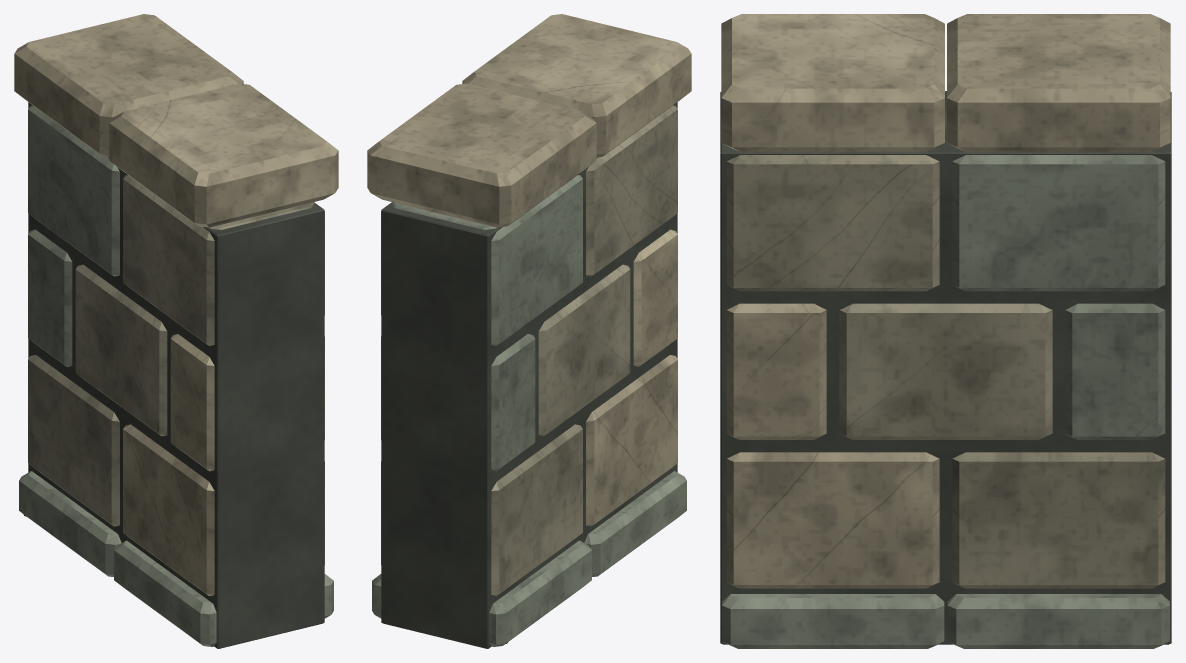
Rendered from b03_wall_128.fbx.
3 views of the same model, side by side, from view 1: azimuth 30°, elevation 25°; view 2: azimuth 150°, elevation 25°; view 3: azimuth 270°, elevation 25° (orthographic). The views are drawn at different scales.
Visible parts, largest first — view 1: b03_wall_128; view 2: b03_wall_128; view 3: b03_wall_128.
Boxes of the visible parts, <box> form: b03_wall_128: <box>14,14,338,648</box>; b03_wall_128: <box>367,14,691,648</box>; b03_wall_128: <box>720,14,1171,648</box>.
Bounding box in the file's own units: 5600 × 12800 × 17600.
